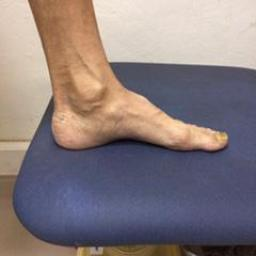Medial View -Left Foot-: (43, 65, 230, 170)
